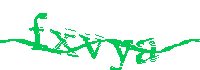a: (135, 37, 160, 65)
f: (28, 12, 48, 53)
v: (81, 31, 105, 59)
x: (49, 26, 78, 59)
y: (106, 37, 133, 70)
